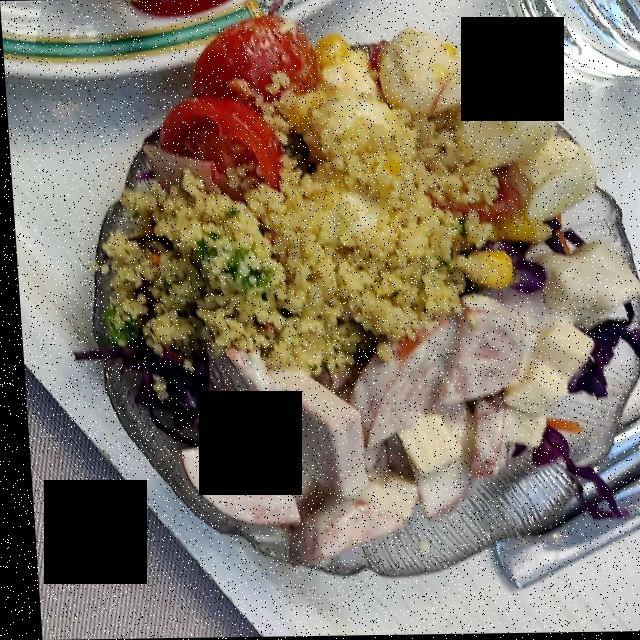cervelat: (168, 281, 541, 546)
cheese: (358, 242, 617, 527)
cucumber-pickled: (191, 401, 263, 471)
salad: (166, 257, 606, 538), (122, 14, 602, 244)
taboule-prepared-with-couscous: (100, 63, 493, 361)
